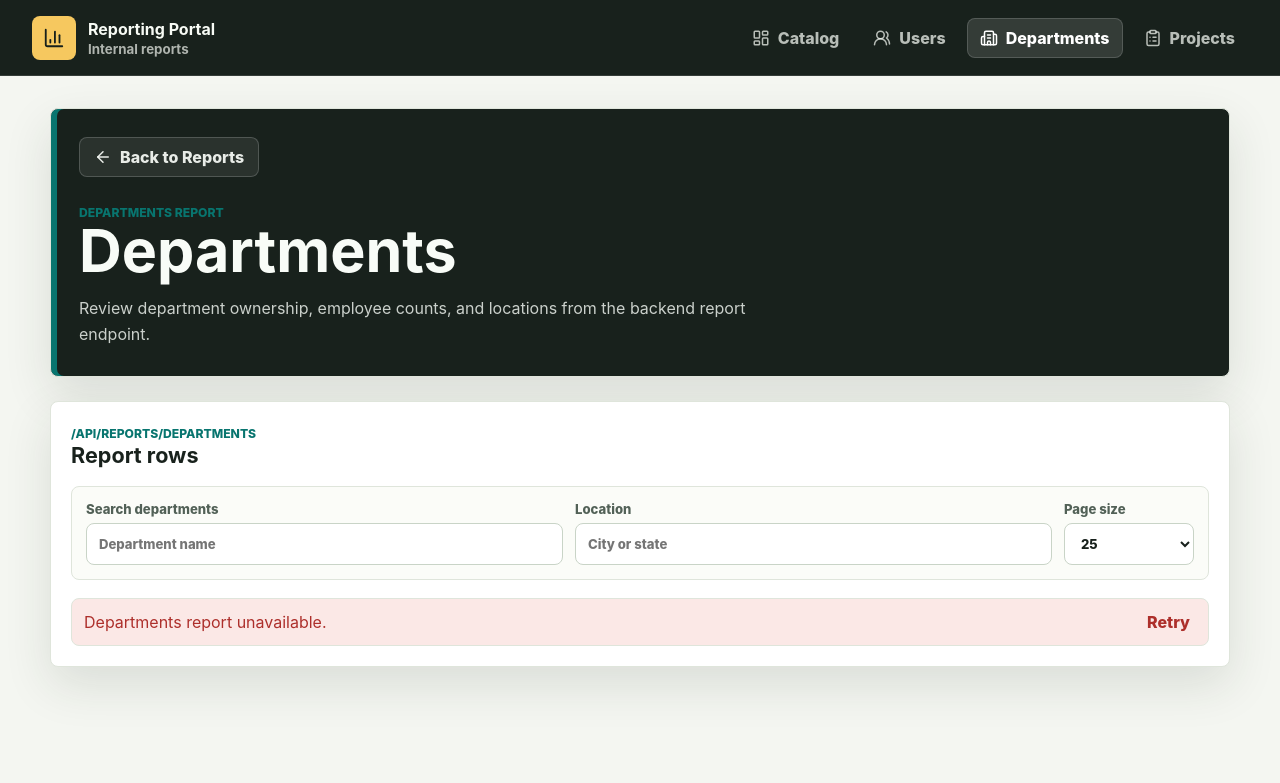
Test: AppShell › shows a departments error state with retry
expect the text "Departments report unavailable." is shown: met, box [84,612,326,632]
Click the button "Retry". click: (1168, 622)
box: [1141,611,1196,633]
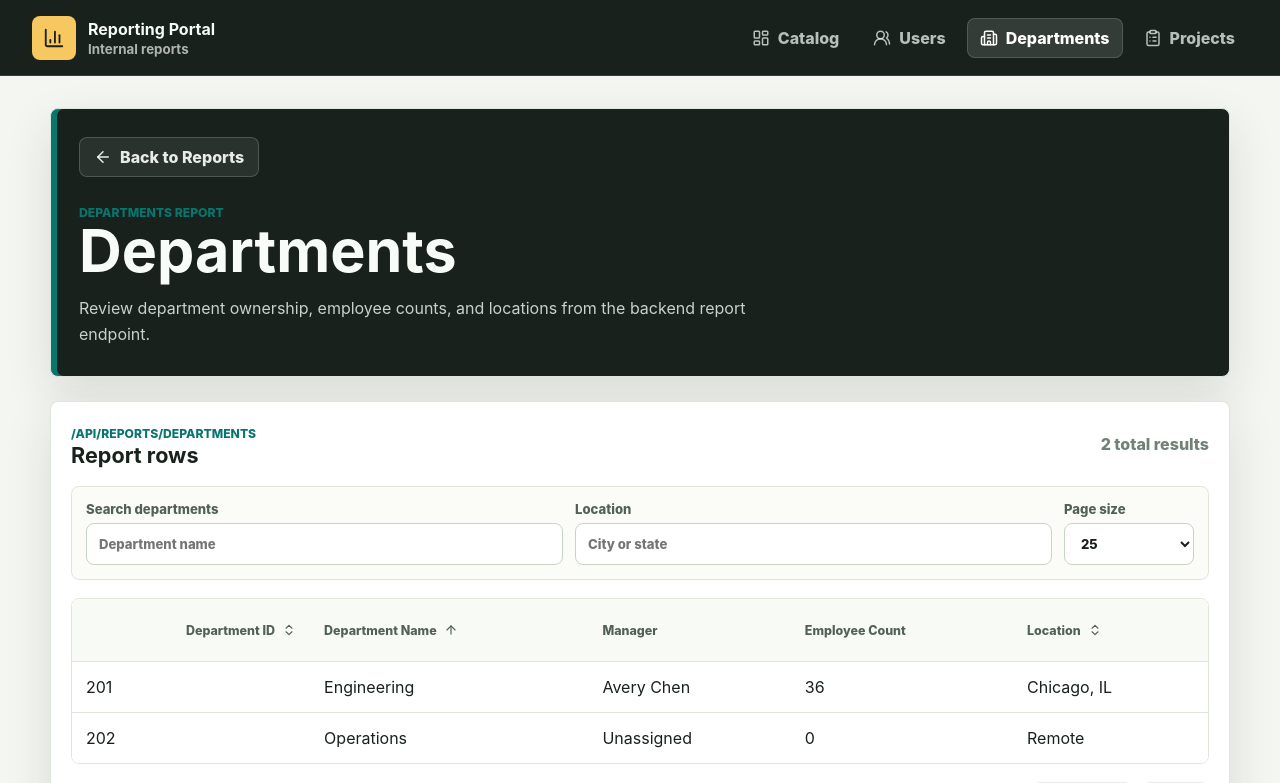
expect the text "Engineering" is shown: met, box [310,662,588,713]
